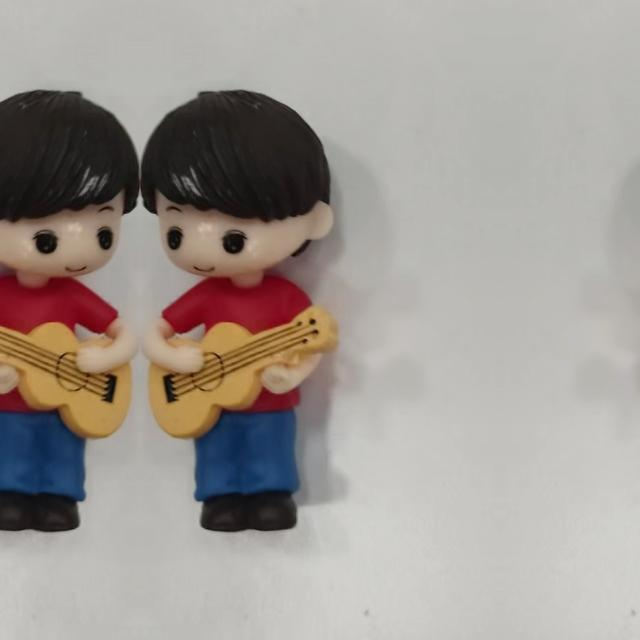man cloth: (161, 280, 323, 410), (0, 279, 119, 410)
man head: (140, 84, 338, 276), (0, 83, 139, 276)
trousers: (188, 402, 306, 538), (0, 402, 92, 538)
